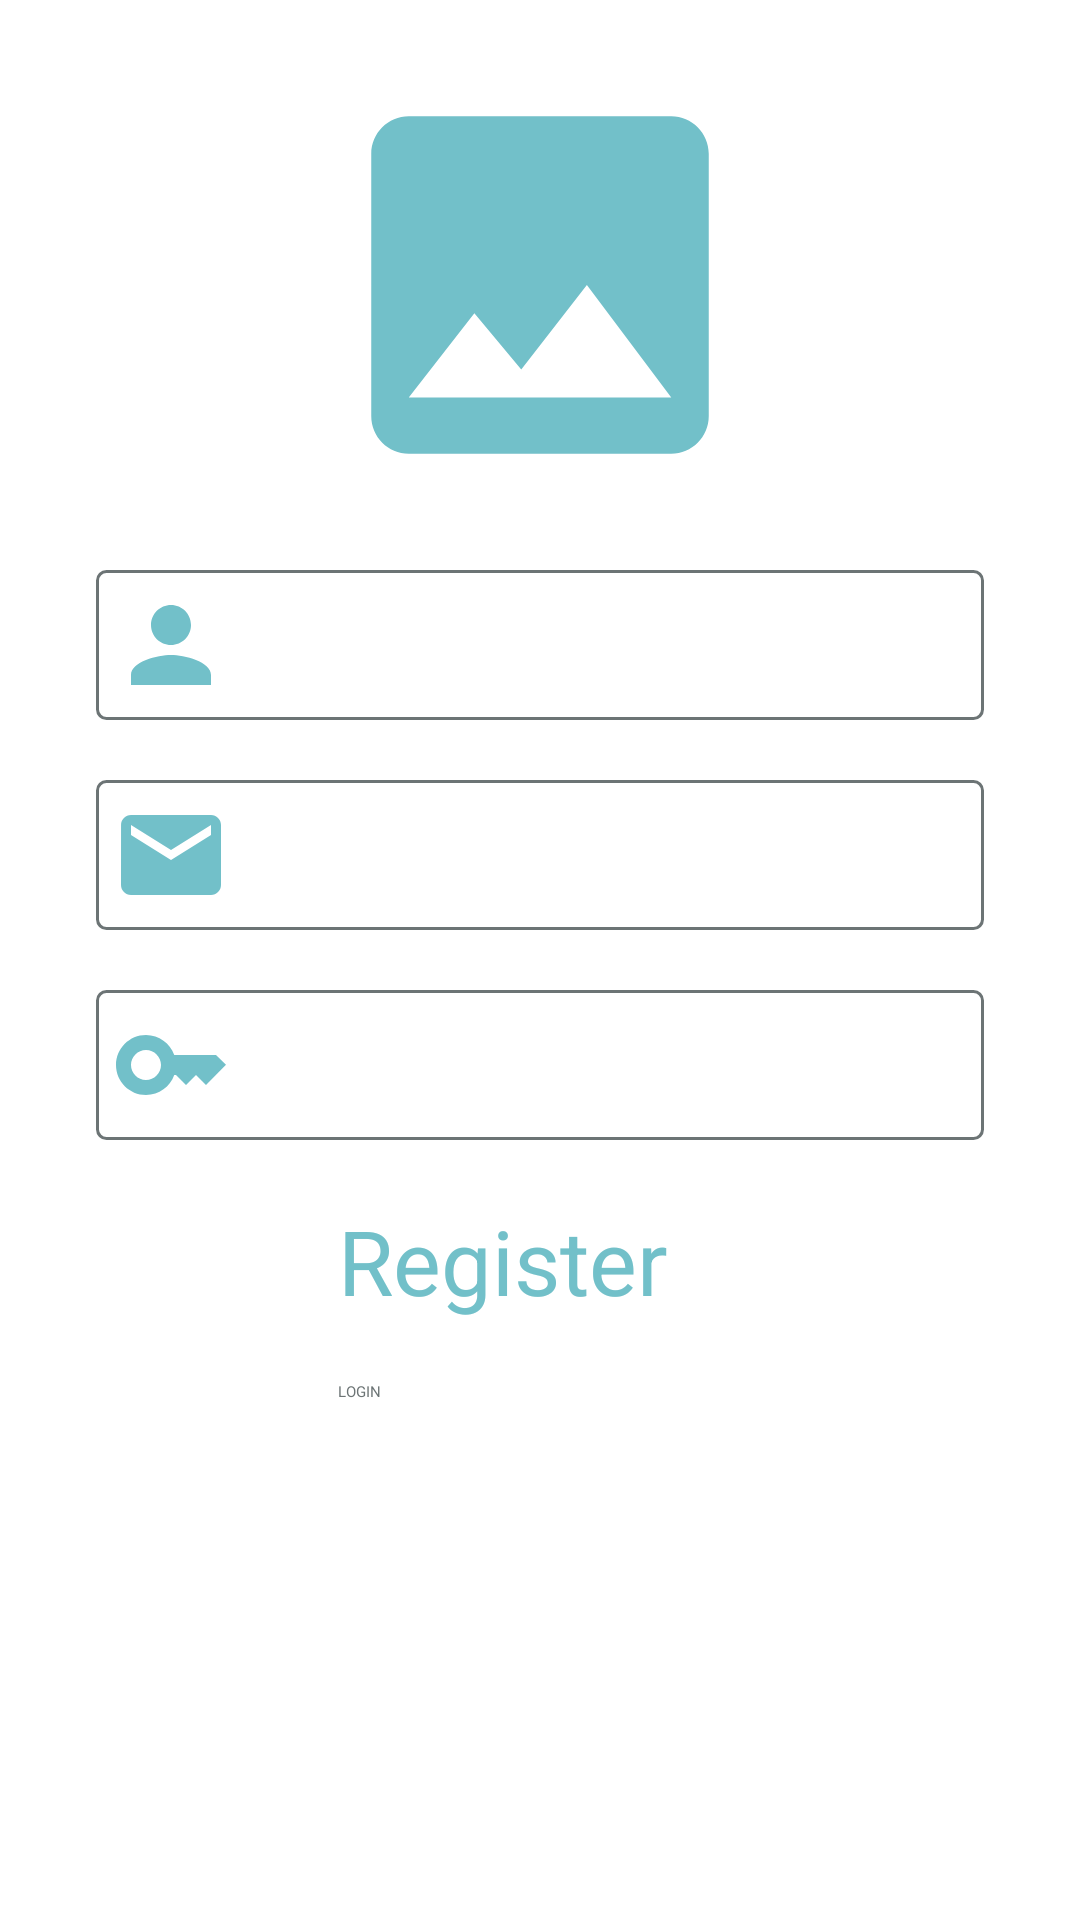

Locate icon controls on the screen. Image size 1080 x 1920, boxes as (x1=x1, y1=y1, x2=x2, y2=y2).
email: (x1=121, y1=815, x2=221, y2=895)
key: (x1=116, y1=1035, x2=226, y2=1095)
person: (x1=131, y1=605, x2=211, y2=685)
